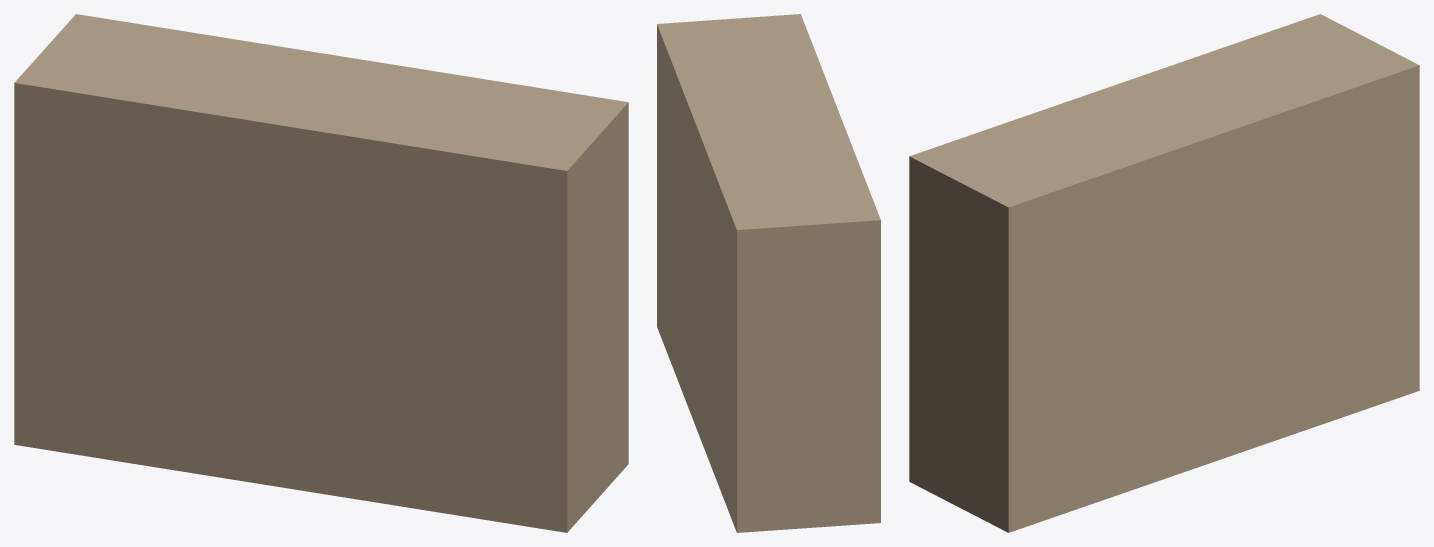
The model's file is bld_100478369.dae.
The picture shows the model from 3 angles, left to right: view 1: azimuth 30°, elevation 25°; view 2: azimuth 150°, elevation 25°; view 3: azimuth 270°, elevation 25°; orthographic projection. The views are drawn at different scales.
Visible parts, largest first — view 1: bld_100478369; view 2: bld_100478369; view 3: bld_100478369.
Boxes of the visible parts, <box> form: bld_100478369: <box>14,14,628,532</box>; bld_100478369: <box>657,14,880,532</box>; bld_100478369: <box>909,14,1419,532</box>.
Size of the model in its own units: 10.2 by 11.37 by 8.
